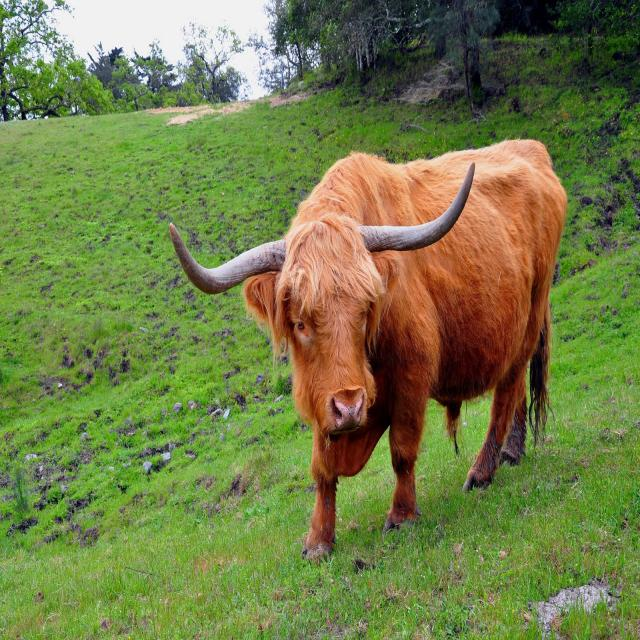Ox: (159, 130, 565, 540)
